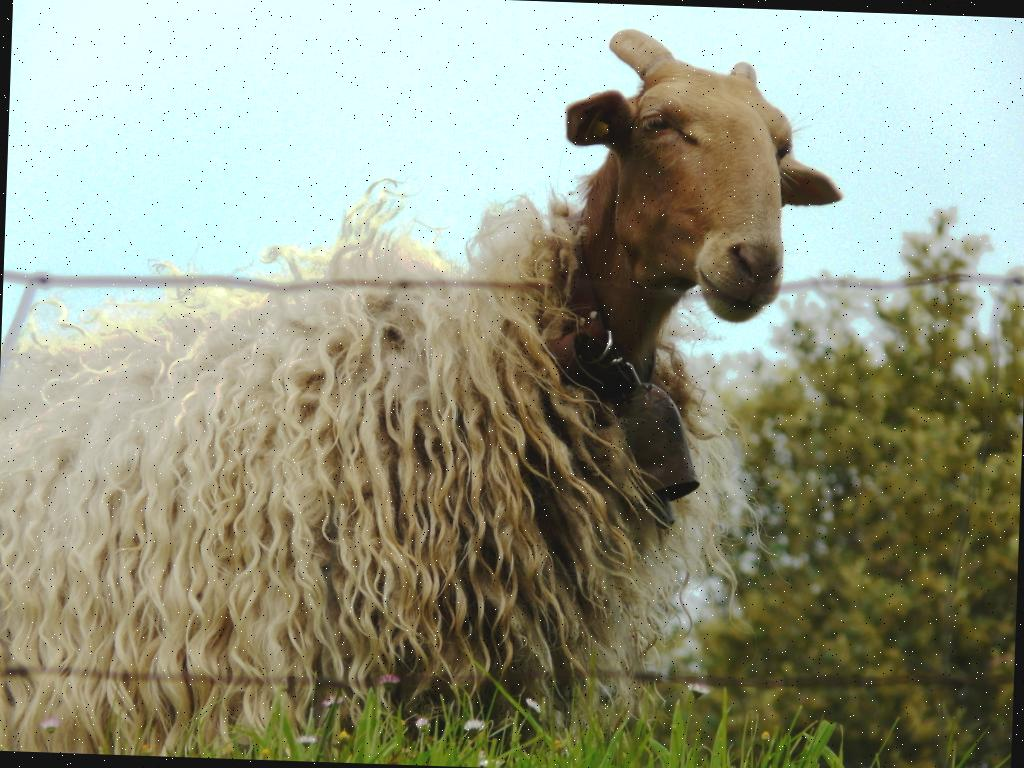Sheep: (0, 0, 849, 768)
